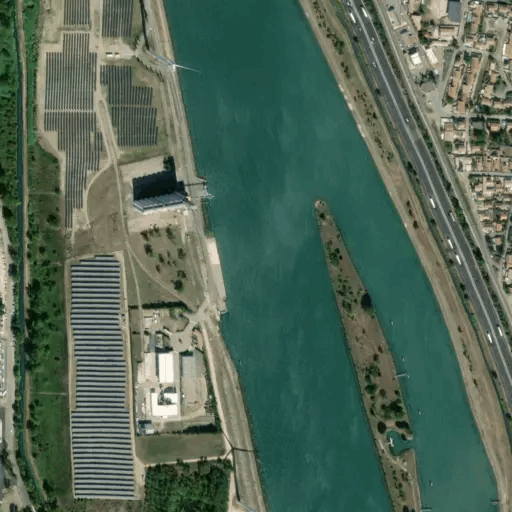wt: (213, 423, 268, 512), (137, 38, 208, 92)
